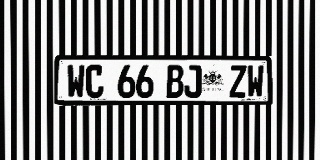6: (136, 65, 154, 98), (118, 65, 135, 98)
B: (166, 65, 184, 98)
C: (86, 65, 103, 98)
J: (184, 65, 201, 98)
W: (67, 65, 85, 98), (247, 65, 264, 98)
Z: (229, 65, 246, 98)
